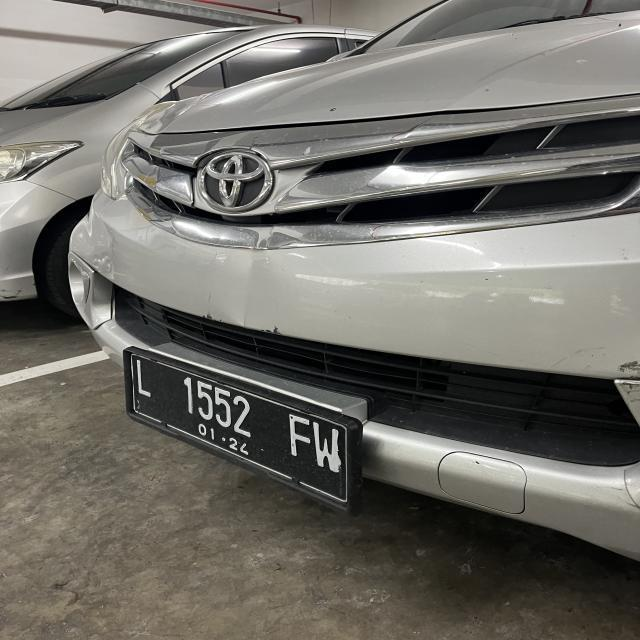1: (181, 375, 194, 413)
2: (233, 394, 256, 439)
5: (216, 384, 230, 430), (198, 378, 212, 420)
F: (285, 412, 311, 462)
L: (133, 358, 153, 399)
W: (312, 418, 341, 471)
